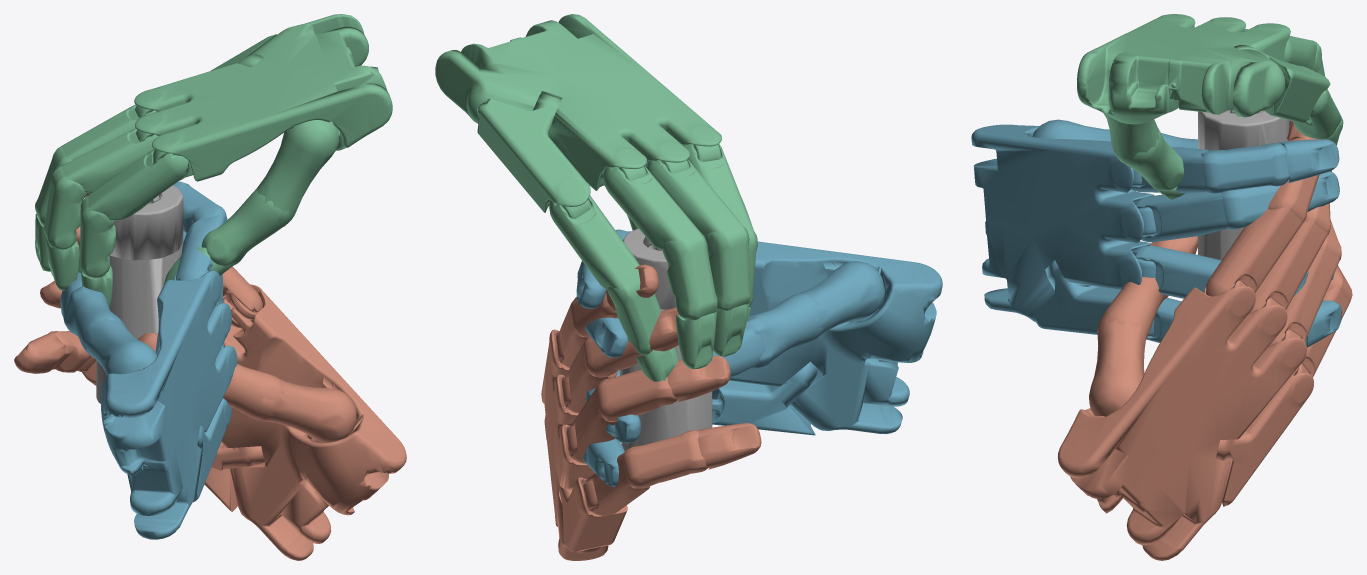
3 renders of one model, left to right at view 1: azimuth 30°, elevation 25°; view 2: azimuth 150°, elevation 25°; view 3: azimuth 270°, elevation 25°, orthographic. The views are drawn at different scales.
Size of the model in its own units: 0.1974 by 0.2545 by 0.1657.
